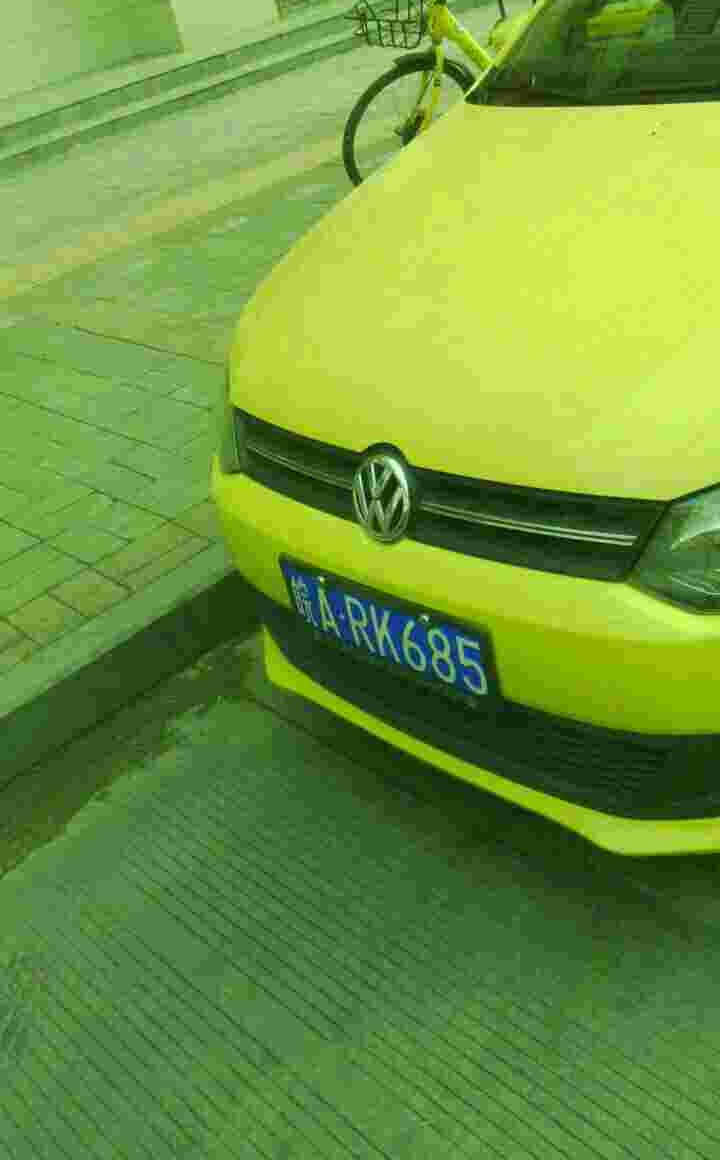license_plate: (295, 572, 497, 702)
